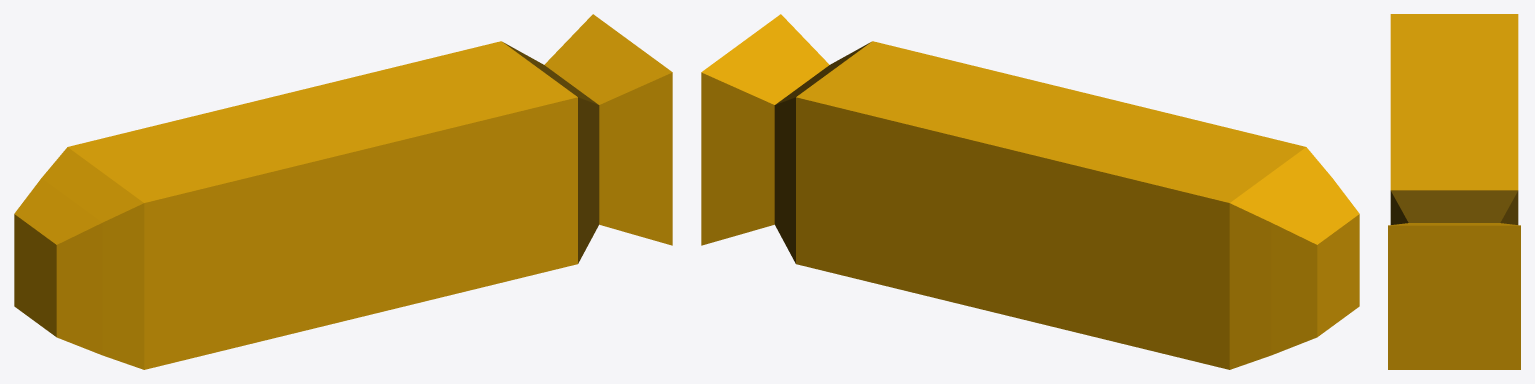
File: Bullet.fbx
3 renders of one model, left to right at view 1: azimuth 30°, elevation 25°; view 2: azimuth 150°, elevation 25°; view 3: azimuth 270°, elevation 25°, orthographic. The views are drawn at different scales.
Parts seen in each view (by area): view 1: Cube; view 2: Cube; view 3: Cube.
Part boxes in pixels (bbox=[...]): Cube: bbox=[14, 14, 672, 369]; Cube: bbox=[701, 14, 1359, 369]; Cube: bbox=[1388, 14, 1520, 369].
Bounding box in the file's own units: 275 × 76.41 × 63.66.
